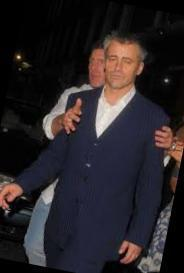Drunk: (107, 40, 139, 90)
